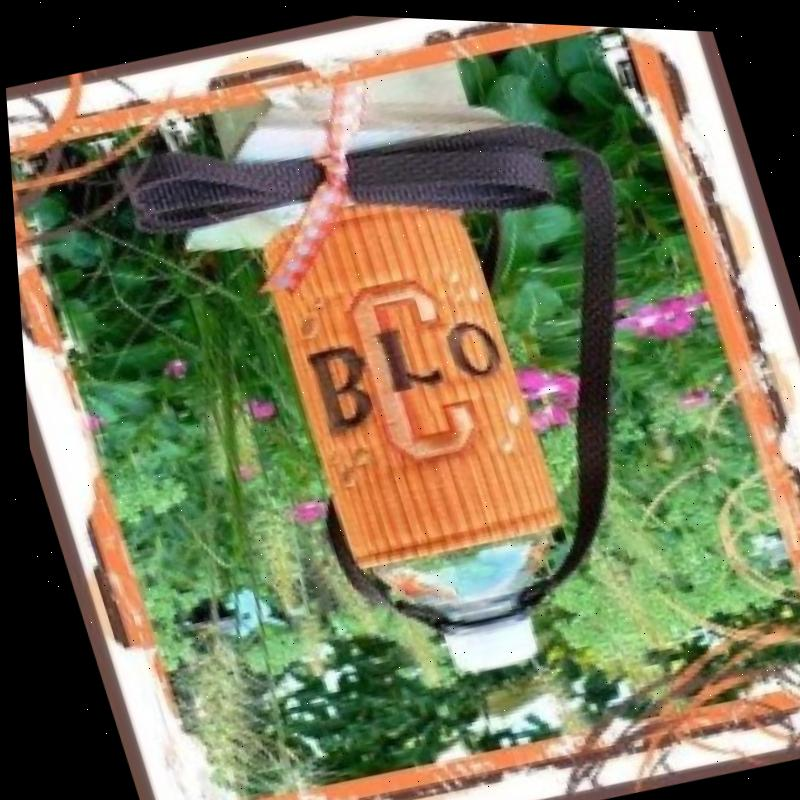botella: (360, 515, 579, 688)
